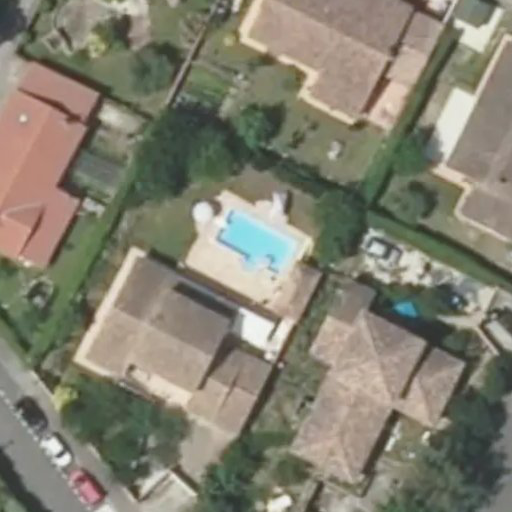pool: (213, 240, 298, 243)
